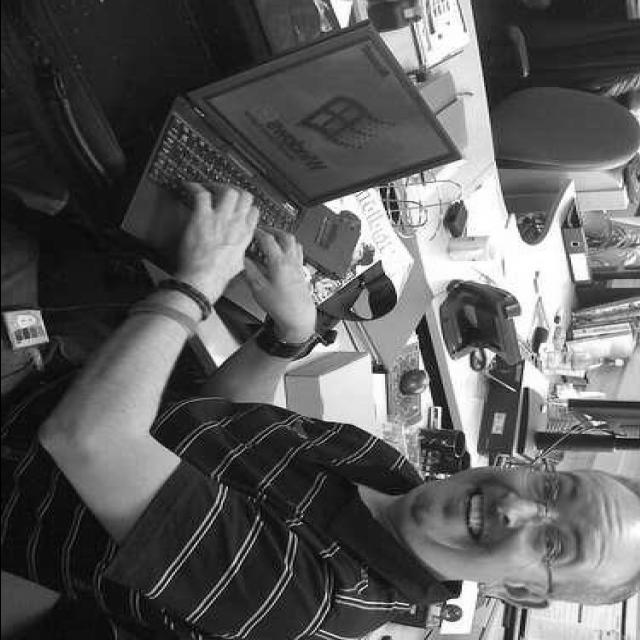laptop: (109, 17, 449, 307)
